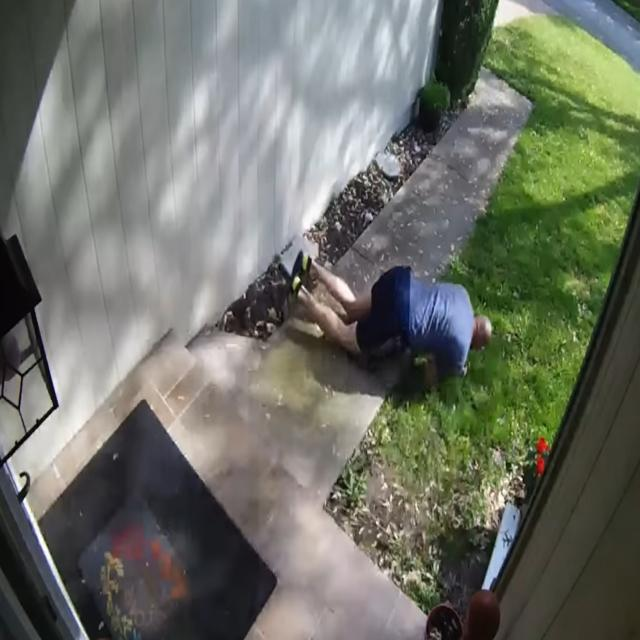fallen: (289, 250, 492, 385)
